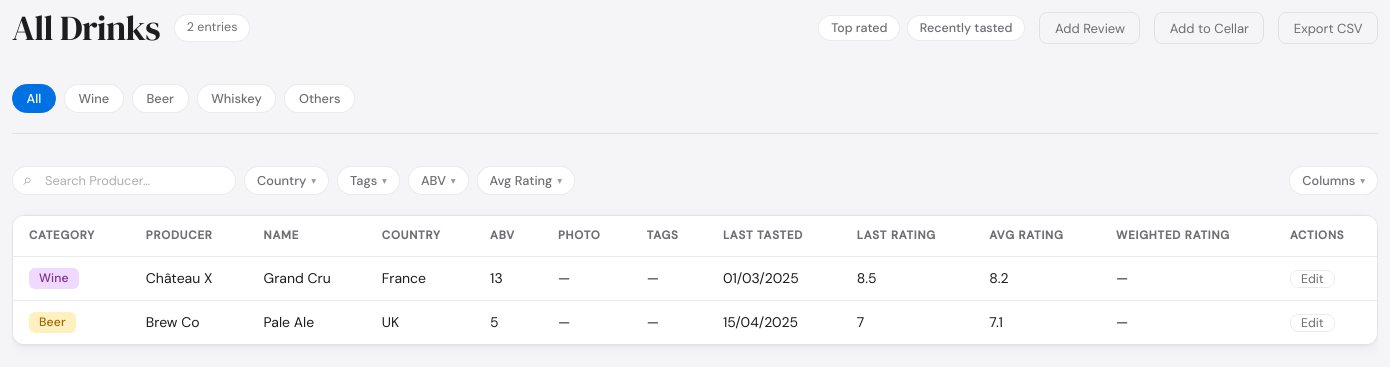
Test: ABV chip appears when ABV filter active
Check: the text "Grand Cru" is shown, box [248,256,366,300]
Click the button with test id "filter-abv": (438, 180) [408,166,468,194]
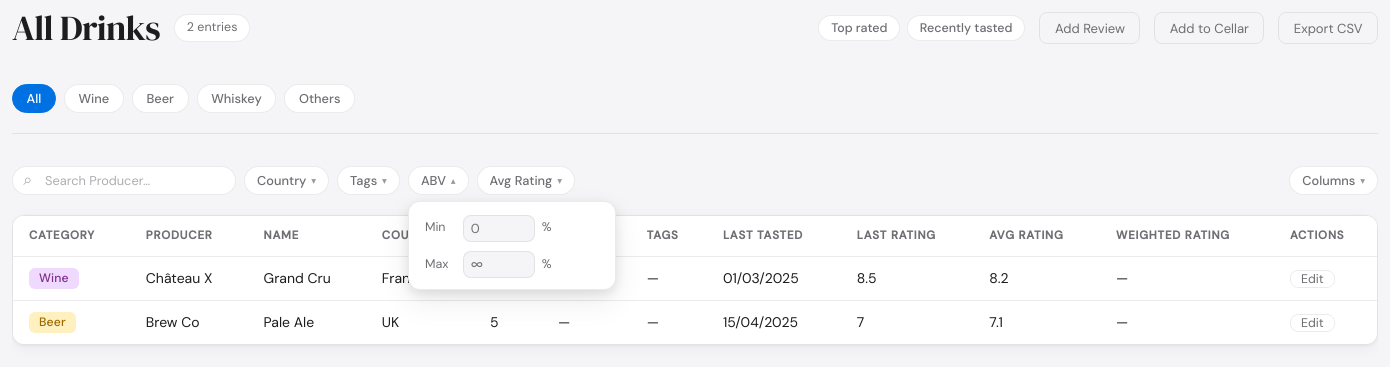
In the number field with test id "abv-min": (499, 228) [463,215,535,242], type "10"
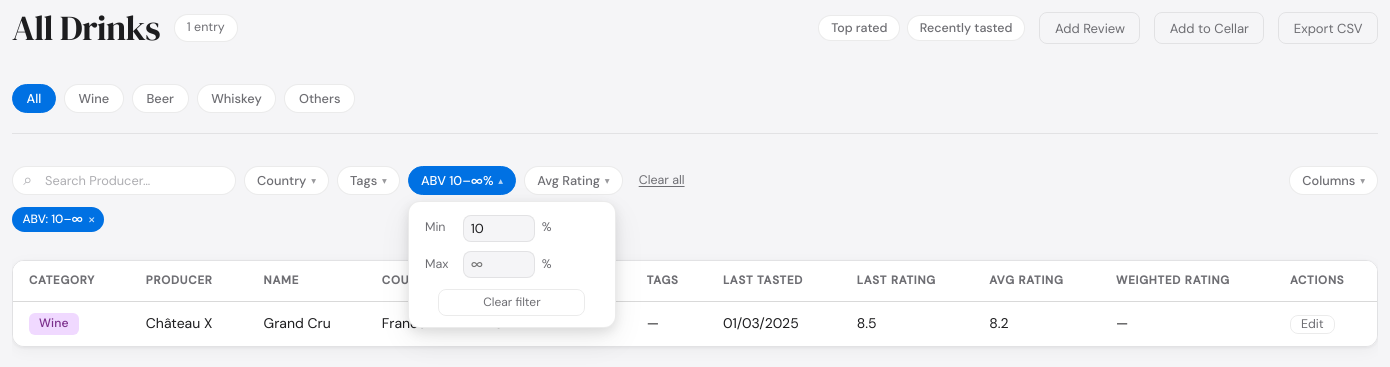
Check: the text "ABV: 10–∞" is shown, box [12,206,104,232]
